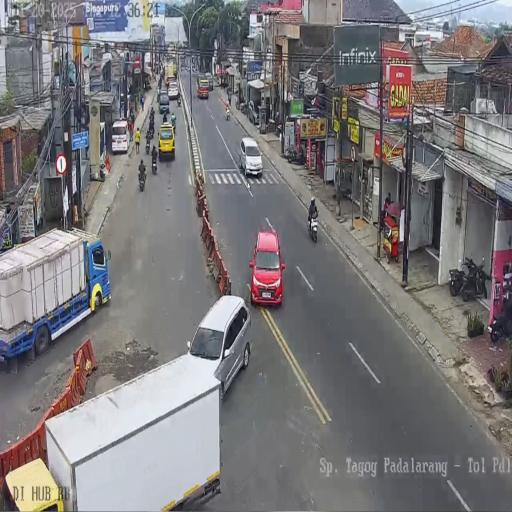3: (2, 232, 112, 365), (143, 52, 153, 85), (165, 60, 175, 83)
car: (187, 296, 251, 400), (248, 226, 284, 306), (239, 136, 263, 178), (111, 119, 130, 154), (158, 123, 175, 156), (158, 92, 169, 114), (168, 80, 178, 100), (205, 72, 213, 90)
truck: (461, 254, 490, 300), (489, 297, 511, 341), (449, 263, 465, 296), (284, 143, 305, 166), (307, 210, 318, 242), (138, 165, 146, 191), (240, 98, 249, 116), (151, 152, 158, 174), (275, 121, 282, 139), (145, 134, 151, 154), (148, 122, 154, 140), (171, 116, 176, 132), (225, 106, 230, 120), (158, 74, 162, 90), (227, 89, 231, 105), (177, 94, 181, 107), (235, 98, 239, 111)
